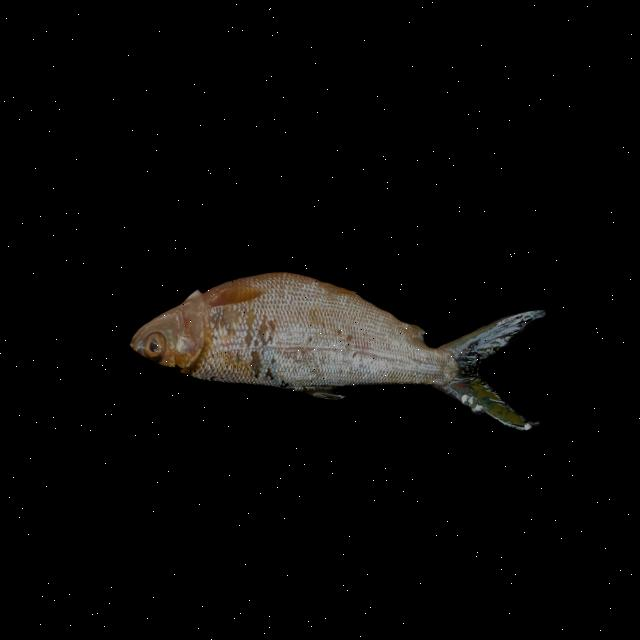510 g: (124, 258, 549, 434)
